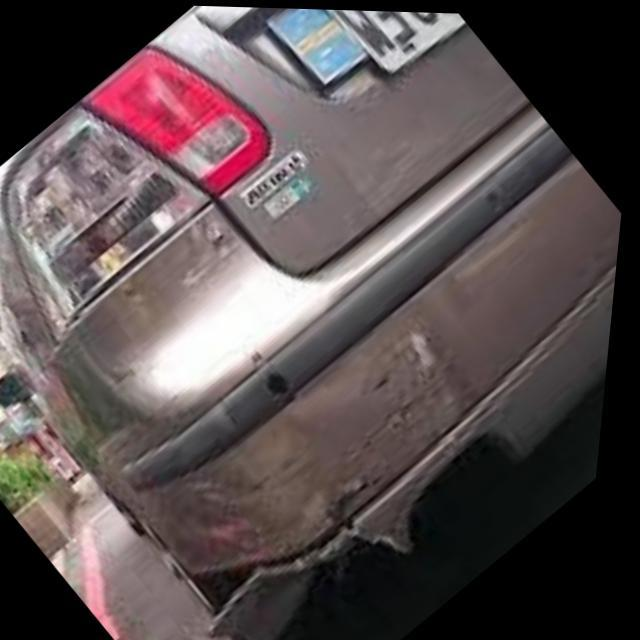dent: (166, 313, 528, 640)
